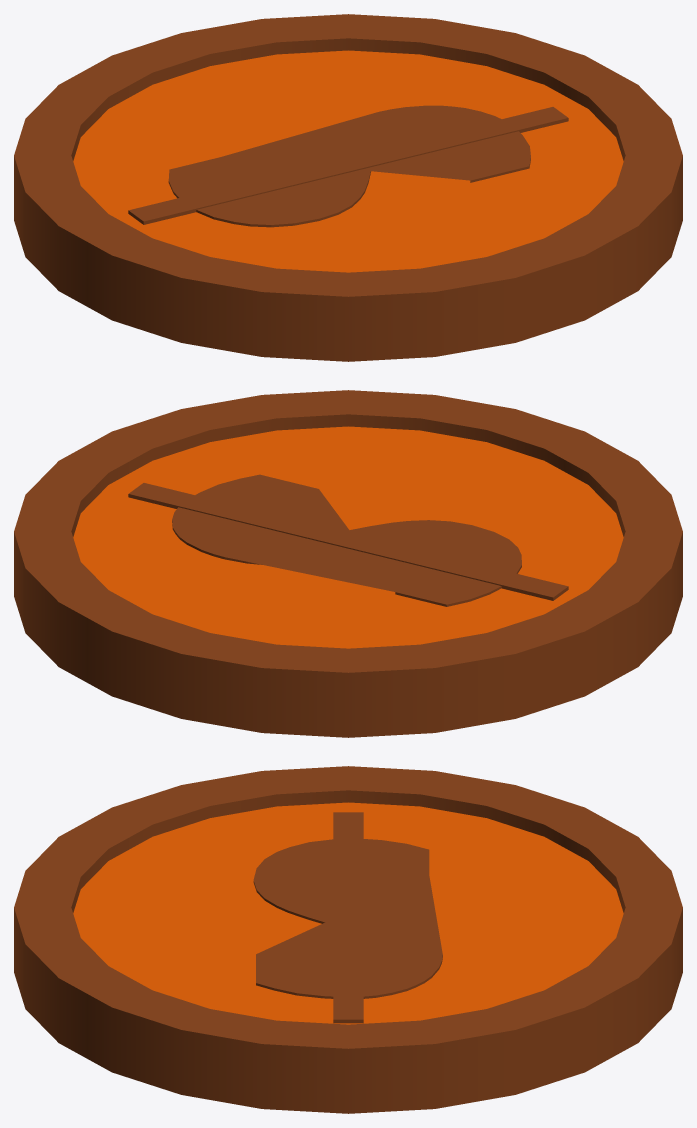
Rendered from gold_coin.fbx.
3 renders of one model, top to bottom at view 1: azimuth 30°, elevation 25°; view 2: azimuth 150°, elevation 25°; view 3: azimuth 270°, elevation 25°, orthographic.
Visible parts, largest first — view 1: Cylinder; view 2: Cylinder; view 3: Cylinder.
Part boxes in pixels (left/top/right/bottom): Cylinder: left=14, top=14, right=682, bottom=361; Cylinder: left=14, top=390, right=682, bottom=737; Cylinder: left=14, top=766, right=682, bottom=1113.
Size of the model in its own units: 200 by 21.44 by 200.
